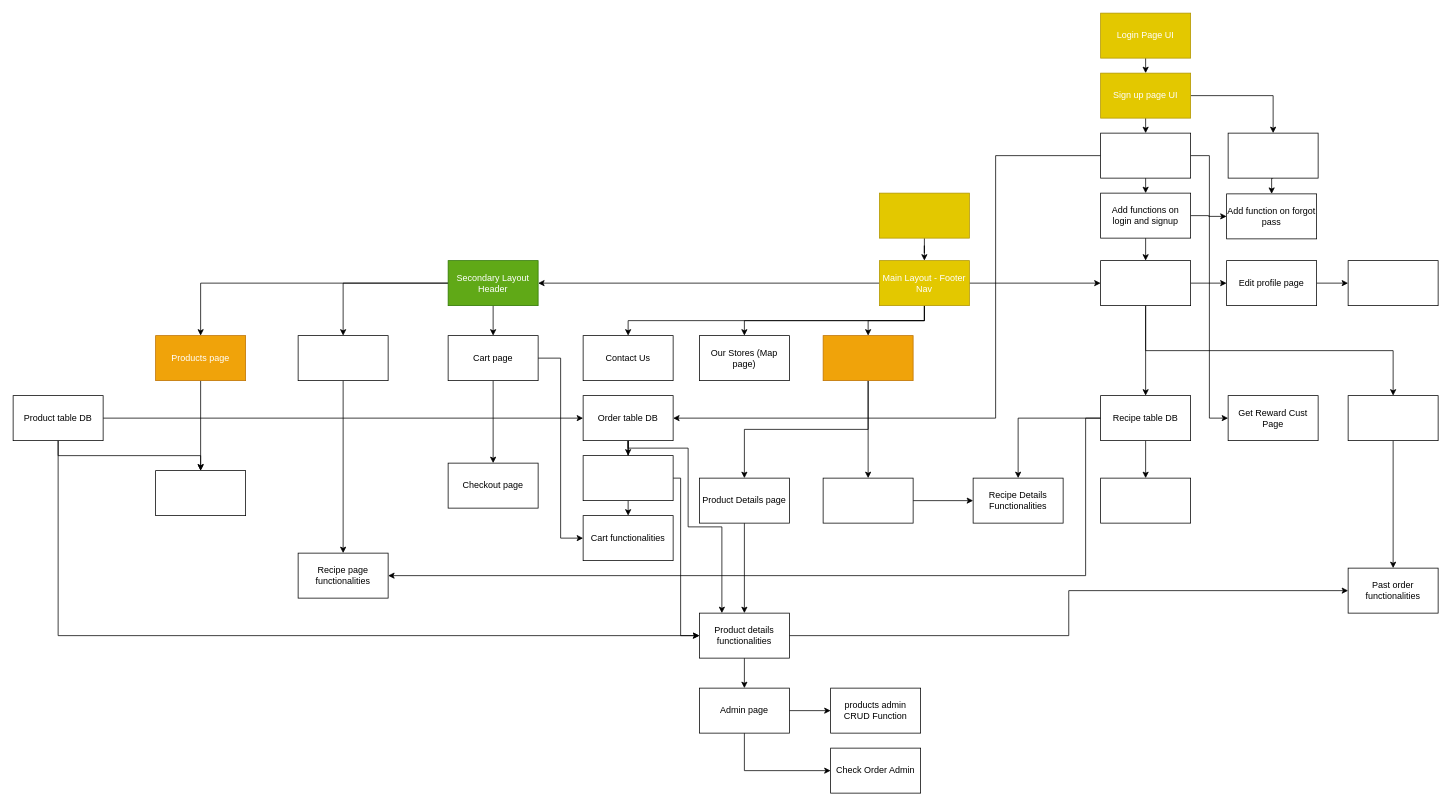
Image size: 1451x806. Some labels were removed from this diagram. Each missing label, with the centre of its shape:
Cart table DB: [627,478]
Edit profile Functionalities: [1392,283]
Forgot password Page: [1272,155]
Home page: [867,358]
Main Layout - Header Nav: [924,215]
Past order: [1392,418]
Post Recipe: [1145,500]
Product page functionalities: [200,493]
Profile page: [1145,283]
Recipe Details: [867,500]
Recipe page: [342,358]
User table DB: [1145,155]
